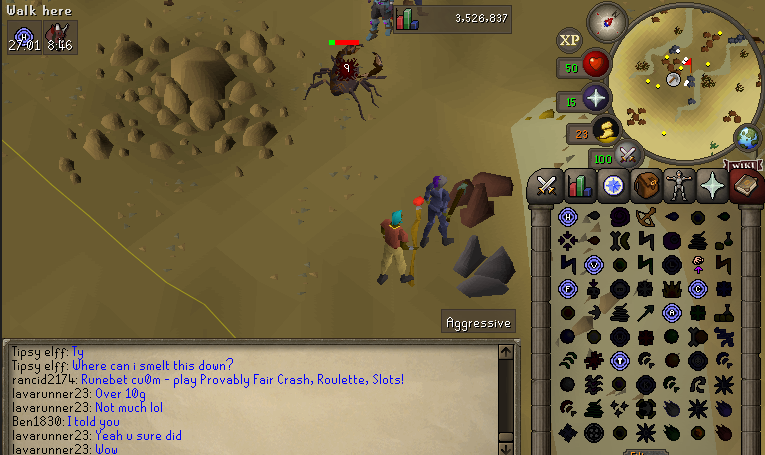depleted: (443, 235, 523, 301)
iron: (447, 164, 519, 233)
